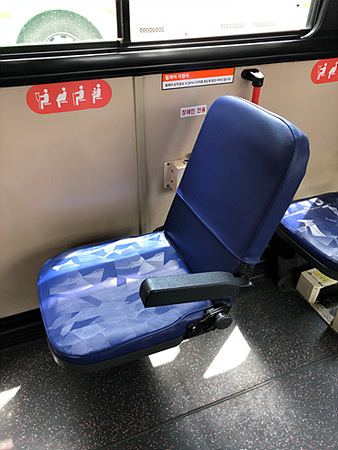seat: (37, 94, 310, 368)
